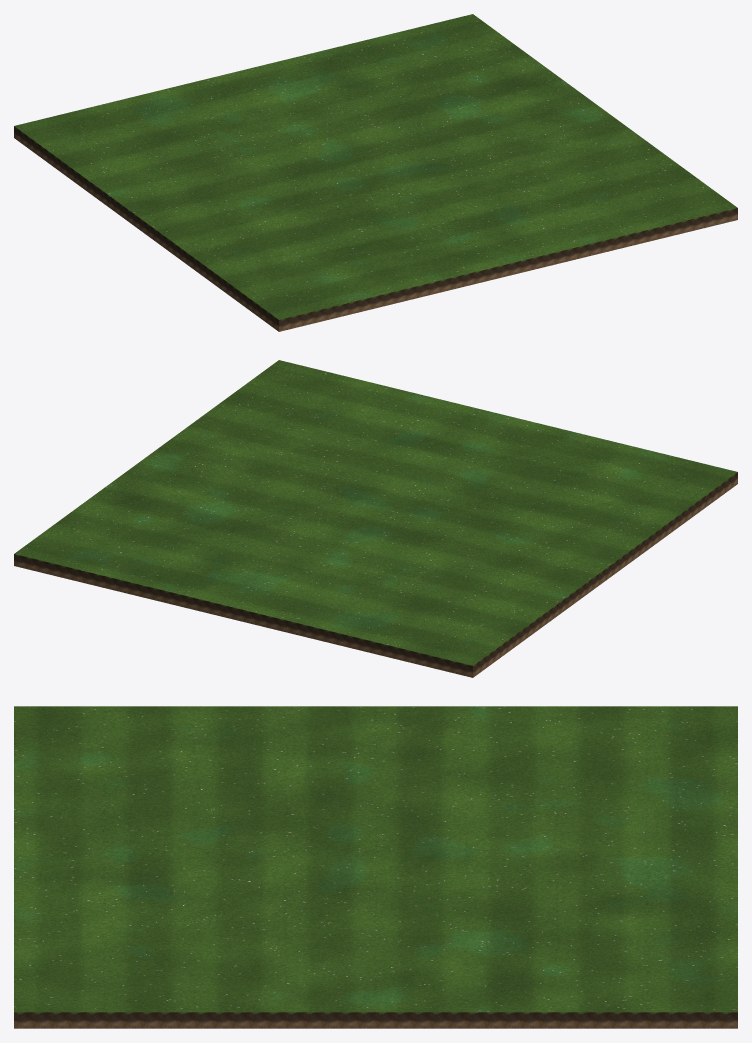
File: lawn-patch.glb
The picture shows the model from 3 angles, top to bottom: view 1: azimuth 30°, elevation 25°; view 2: azimuth 150°, elevation 25°; view 3: azimuth 270°, elevation 25°; orthographic projection. The views are drawn at different scales.
Visible parts, largest first — view 1: Mown lawn grass; view 2: Mown lawn grass; view 3: Mown lawn grass.
Part boxes in pixels (x1,y1,x2,y2): Mown lawn grass: [14, 14, 737, 331]; Mown lawn grass: [14, 360, 737, 677]; Mown lawn grass: [14, 706, 737, 1028].
Bounding box in the file's own units: 12 × 0.3408 × 12.
Materials: 2 (2 with a texture image).
